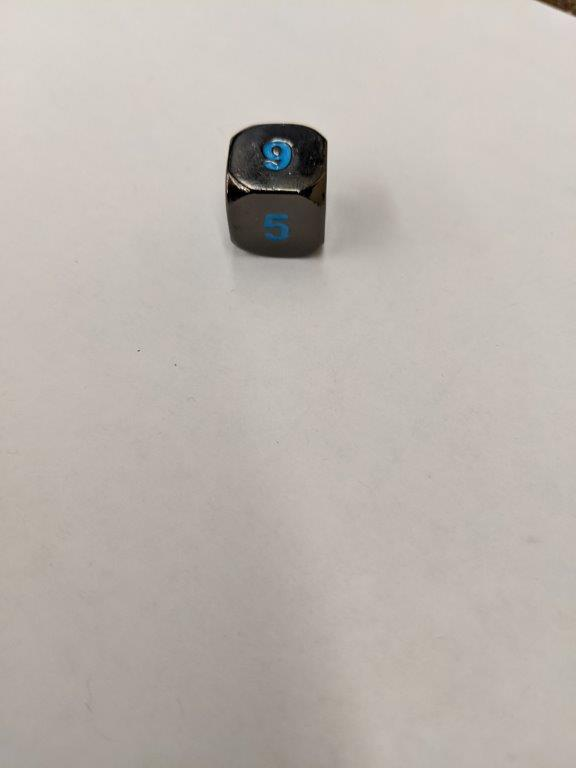d6-6: (224, 122, 329, 261)
